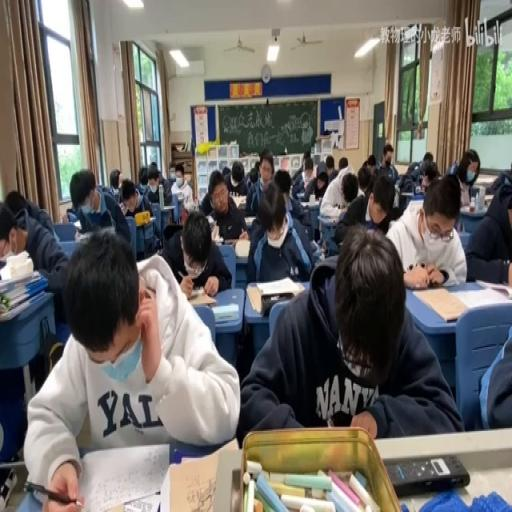calculator: (162, 441, 238, 512), (453, 284, 512, 309), (0, 289, 46, 320), (254, 274, 302, 296), (184, 287, 218, 306), (212, 302, 238, 322), (245, 283, 261, 311), (234, 238, 250, 258), (309, 238, 325, 258), (459, 202, 488, 213), (320, 208, 342, 222), (228, 194, 246, 208), (133, 215, 155, 226), (73, 228, 89, 243), (210, 223, 220, 242), (243, 215, 256, 226), (306, 196, 320, 206), (206, 213, 216, 226), (400, 189, 418, 196), (482, 194, 492, 206), (160, 204, 174, 210), (112, 188, 119, 200), (296, 191, 306, 199), (175, 191, 184, 199), (414, 185, 422, 192)
paper: (22, 229, 234, 506), (239, 229, 457, 442), (384, 171, 467, 283), (0, 186, 70, 305), (246, 182, 317, 284), (461, 159, 512, 281), (69, 168, 130, 247), (333, 166, 384, 248), (477, 318, 512, 430), (200, 169, 249, 245), (299, 160, 334, 204), (142, 161, 172, 209), (119, 178, 147, 219), (170, 162, 192, 213), (376, 142, 398, 182), (3, 189, 29, 222), (457, 150, 478, 188), (258, 149, 274, 188), (420, 160, 438, 190), (274, 168, 290, 196), (357, 164, 371, 194), (400, 162, 419, 184), (326, 155, 340, 182), (230, 164, 244, 186), (365, 152, 377, 174), (109, 168, 121, 189), (302, 154, 313, 175), (138, 165, 148, 185), (393, 184, 400, 208), (422, 150, 433, 164), (248, 168, 258, 183), (280, 156, 290, 170), (338, 155, 347, 169), (222, 165, 230, 179), (66, 206, 74, 220), (450, 161, 458, 175), (150, 161, 156, 169), (169, 171, 175, 179), (379, 154, 383, 164)
person: (386, 452, 470, 495)
